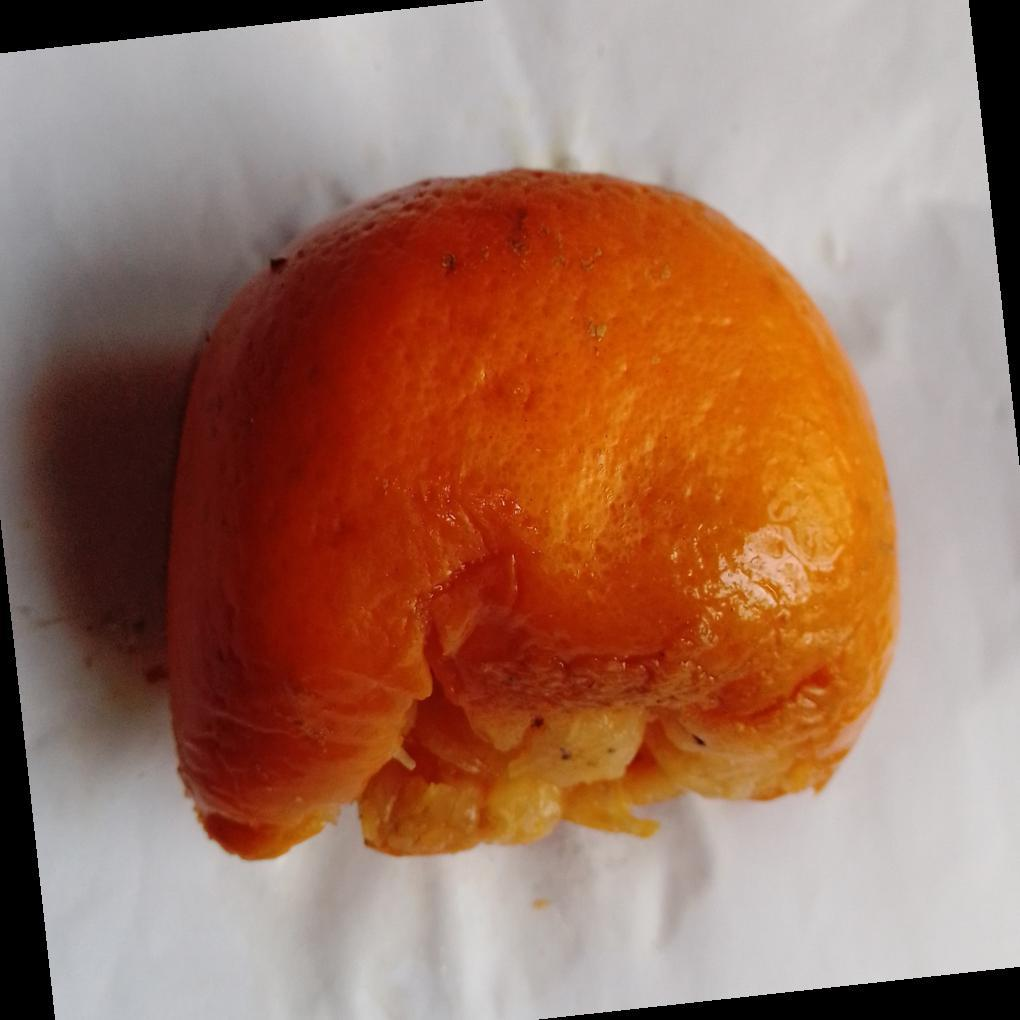FreshOrange: (163, 170, 902, 867)
